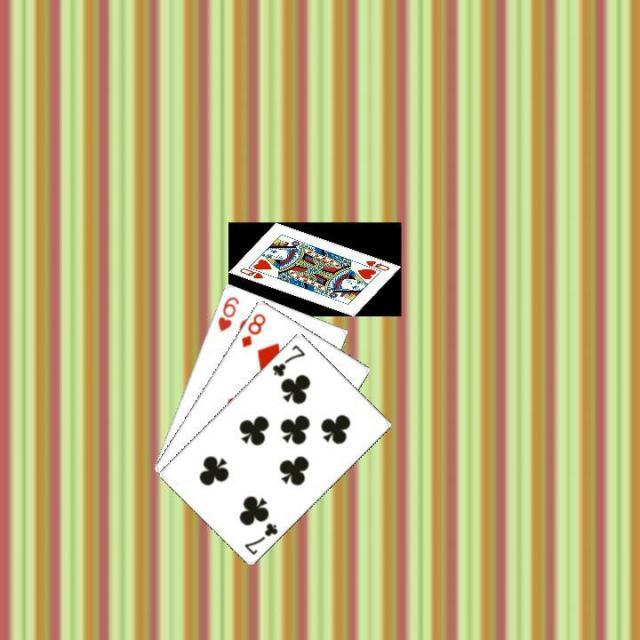6H: (213, 293, 241, 334)
7C: (240, 519, 280, 557), (269, 341, 307, 379)
8D: (238, 310, 268, 350)
